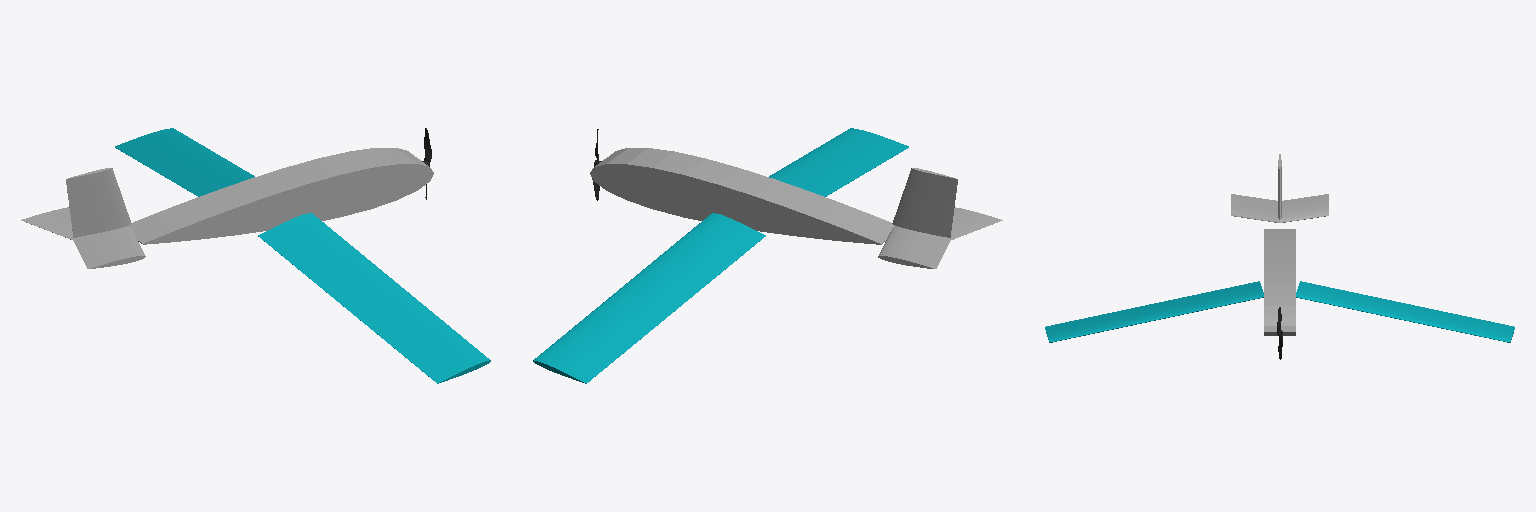
The robot description file, URDF, robot "drone_ea":
<robot name="drone_ea">
 <material name="grey">
  <color rgba="0.7 0.7 0.7 1" />
 </material>
 <material name="red">
  <color rgba="0.08235294117647059 0.7176470588235294 0.7647058823529411 1" />
 </material>
 <material name="black">
  <color rgba="0.2 0.2 0.2 1" />
 </material>
 <link name="root_link">
  <inertial>
   <origin rpy="0 0 0" xyz="0 0 0" />
   <mass value="0" />
   <inertia ixx="0" ixy="0" ixz="0" iyy="0" iyz="0" izz="0" />
  </inertial>
 </link>
 <joint name="fixed_joint_base_fuselage" type="fixed">
  <parent link="root_link" />
  <child link="fuselage" />
  <origin rpy="3.141592653589793 0 0" xyz="0 0 0" />
 </joint>
 <link name="fuselage">
  <inertial>
   <origin rpy="0 0 0" xyz="-0.344 0 0" />
   <mass value="0.55" />
   <inertia ixx="0.00029015955" ixy="0" ixz="0" iyy="0.0074080147" iyz="0" izz="0.0074511885" />
  </inertial>
  <visual>
   <origin rpy="0 0 0" xyz="0 0 0" />
   <geometry>
    <mesh filename="package://ros_muav/meshes/fuselage0014_tail0009.stl" scale="0.001 0.001 0.001" />
   </geometry>
   <material name="grey" />
  </visual>
 </link>
 <joint name="fixed_joint_aero_frame_fuselage" type="fixed">
  <parent link="fuselage" />
  <child link="aero_frame_fuselage" />
  <origin rpy="0 3.141592653589793 0" xyz="-0.344 0 0" />
 </joint>
 <link name="aero_frame_fuselage" />
 <joint name="fixed_joint_right_wing" type="fixed">
  <parent link="fuselage" />
  <child link="fuselage_right_0" />
  <origin rpy="-0.17453292519943295 -0.10471975511965977 3.036872898470133" xyz="-0.35 0.05 0.03" />
 </joint>
 <link name="fuselage_right_0">
  <inertial>
   <mass value="0.018" />
   <origin rpy="0 0 0" xyz="0 0 0" />
   <inertia ixx="2.1333333333333334e-06" ixy="0" ixz="0" iyy="2.1333333333333334e-06" iyz="0" izz="2.1333333333333334e-06" />
  </inertial>
 </link>
 <joint name="joint_0_twist_right_wing" type="revolute">
  <parent link="fuselage_right_0" />
  <child link="fuselage_right_1" />
  <origin rpy="0 0 0" xyz="0 0 0" />
  <axis xyz="0 1 0" />
  <limit effort="0.26" lower="-0.5235987755982988" upper="0.5235987755982988" velocity="5.393067388662478" />
  <dynamics damping="1" friction="0" />
 </joint>
 <link name="fuselage_right_1">
  <inertial>
   <mass value="0.082" />
   <origin rpy="0 0 0" xyz="0 0 0" />
   <inertia ixx="1.8041518518518523e-05" ixy="0" ixz="0" iyy="1.8041518518518523e-05" iyz="0" izz="1.8041518518518523e-05" />
  </inertial>
 </link>
 <joint name="joint_1_dihedral_right_wing" type="revolute">
  <parent link="fuselage_right_1" />
  <child link="fuselage_right_2" />
  <origin rpy="0 0 0" xyz="0 0 0" />
  <axis xyz="1 0 0" />
  <limit effort="1.7" lower="-0.5235987755982988" upper="0.5235987755982988" velocity="1.5707963267948966" />
  <dynamics damping="1" friction="0" />
 </joint>
 <link name="fuselage_right_2">
  <inertial>
   <mass value="0.018" />
   <origin rpy="0 0 0" xyz="0 0 0" />
   <inertia ixx="2.1333333333333334e-06" ixy="0" ixz="0" iyy="2.1333333333333334e-06" iyz="0" izz="2.1333333333333334e-06" />
  </inertial>
 </link>
 <joint name="joint_2_sweep_right_wing" type="revolute">
  <parent link="fuselage_right_2" />
  <child link="right_wing" />
  <origin rpy="0 0 0" xyz="0 0 0" />
  <axis xyz="0 0 1" />
  <limit effort="0.26" lower="-0.5235987755982988" upper="0.5235987755982988" velocity="5.393067388662478" />
  <dynamics damping="1" friction="0" />
 </joint>
 <link name="right_wing">
  <inertial>
   <origin rpy="0 0 0" xyz="0.025827498 -0.33749999999999997 0" />
   <mass value="0.02812456158251265" />
   <inertia ixx="0.0010681446840688066" ixy="0" ixz="0" iyy="3.504021501709715e-05" iyz="0" izz="0.0011026044272724718" />
  </inertial>
  <visual>
   <origin rpy="0 0 0" xyz="0 0 0" />
   <geometry>
    <mesh filename="package://ros_muav/meshes/wing0009.stl" scale="0.15 0.6749999999999999 0.15" />
   </geometry>
   <material name="red" />
  </visual>
 </link>
 <joint name="fixed_joint_aero_frame_right_wing" type="fixed">
  <parent link="right_wing" />
  <child link="aero_frame_right_wing" />
  <origin rpy="3.141592653589793 0 0" xyz="0.025827498 -0.33749999999999997 0" />
 </joint>
 <link name="aero_frame_right_wing" />
 <joint name="fixed_joint_left_wing" type="fixed">
  <parent link="fuselage" />
  <child link="fuselage_left_0" />
  <origin rpy="0.17453292519943295 3.246312408709453 0.10471975511965977" xyz="-0.35 -0.05 0.03" />
 </joint>
 <link name="fuselage_left_0">
  <inertial>
   <mass value="0.018" />
   <origin rpy="0 0 0" xyz="0 0 0" />
   <inertia ixx="2.1333333333333334e-06" ixy="0" ixz="0" iyy="2.1333333333333334e-06" iyz="0" izz="2.1333333333333334e-06" />
  </inertial>
 </link>
 <joint name="joint_0_twist_left_wing" type="revolute">
  <parent link="fuselage_left_0" />
  <child link="fuselage_left_1" />
  <origin rpy="0 0 0" xyz="0 0 0" />
  <axis xyz="0 -1 0" />
  <limit effort="0.26" lower="-0.5235987755982988" upper="0.5235987755982988" velocity="5.393067388662478" />
  <dynamics damping="1" friction="0" />
 </joint>
 <link name="fuselage_left_1">
  <inertial>
   <mass value="0.082" />
   <origin rpy="0 0 0" xyz="0 0 0" />
   <inertia ixx="1.8041518518518523e-05" ixy="0" ixz="0" iyy="1.8041518518518523e-05" iyz="0" izz="1.8041518518518523e-05" />
  </inertial>
 </link>
 <joint name="joint_1_dihedral_left_wing" type="revolute">
  <parent link="fuselage_left_1" />
  <child link="fuselage_left_2" />
  <origin rpy="0 0 0" xyz="0 0 0" />
  <axis xyz="-1 0 0" />
  <limit effort="1.7" lower="-0.5235987755982988" upper="0.5235987755982988" velocity="1.5707963267948966" />
  <dynamics damping="1" friction="0" />
 </joint>
 <link name="fuselage_left_2">
  <inertial>
   <mass value="0.018" />
   <origin rpy="0 0 0" xyz="0 0 0" />
   <inertia ixx="2.1333333333333334e-06" ixy="0" ixz="0" iyy="2.1333333333333334e-06" iyz="0" izz="2.1333333333333334e-06" />
  </inertial>
 </link>
 <joint name="joint_2_sweep_left_wing" type="revolute">
  <parent link="fuselage_left_2" />
  <child link="left_wing" />
  <origin rpy="0 0 0" xyz="0 0 0" />
  <axis xyz="0 0 1" />
  <limit effort="0.26" lower="-0.5235987755982988" upper="0.5235987755982988" velocity="5.393067388662478" />
  <dynamics damping="1" friction="0" />
 </joint>
 <link name="left_wing">
  <inertial>
   <origin rpy="0 0 0" xyz="0.025827498 -0.33749999999999997 0" />
   <mass value="0.02812456158251265" />
   <inertia ixx="0.0010681446840688066" ixy="0" ixz="0" iyy="3.504021501709715e-05" iyz="0" izz="0.0011026044272724718" />
  </inertial>
  <visual>
   <origin rpy="0 0 0" xyz="0 0 0" />
   <geometry>
    <mesh filename="package://ros_muav/meshes/wing0009.stl" scale="0.15 0.6749999999999999 0.15" />
   </geometry>
   <material name="red" />
  </visual>
 </link>
 <joint name="fixed_joint_aero_frame_left_wing" type="fixed">
  <parent link="left_wing" />
  <child link="aero_frame_left_wing" />
  <origin rpy="0 0 0" xyz="0.025827498 -0.33749999999999997 0" />
 </joint>
 <link name="aero_frame_left_wing" />
 <joint name="fixed_joint_collision_0" type="fixed">
  <parent link="fuselage" />
  <child link="collision_frame_0" />
  <origin rpy="0 0 0" xyz="0 0 0" />
 </joint>
 <link name="collision_frame_0" />
 <joint name="fixed_joint_collision_1" type="fixed">
  <parent link="fuselage" />
  <child link="collision_frame_1" />
  <origin rpy="0 0 0" xyz="-0.75 0 0" />
 </joint>
 <link name="collision_frame_1" />
 <joint name="fixed_joint_collision_2" type="fixed">
  <parent link="right_wing" />
  <child link="collision_frame_2" />
  <origin rpy="0 0 0" xyz="0.11249999999999999 -0.6749999999999999 0" />
 </joint>
 <link name="collision_frame_2" />
 <joint name="fixed_joint_collision_3" type="fixed">
  <parent link="right_wing" />
  <child link="collision_frame_3" />
  <origin rpy="0 0 0" xyz="-0.0375 -0.6749999999999999 0" />
 </joint>
 <link name="collision_frame_3" />
 <joint name="fixed_joint_collision_4" type="fixed">
  <parent link="left_wing" />
  <child link="collision_frame_4" />
  <origin rpy="0 0 0" xyz="0.11249999999999999 -0.6749999999999999 0" />
 </joint>
 <link name="collision_frame_4" />
 <joint name="fixed_joint_collision_5" type="fixed">
  <parent link="left_wing" />
  <child link="collision_frame_5" />
  <origin rpy="0 0 0" xyz="-0.0375 -0.6749999999999999 0" />
 </joint>
 <link name="collision_frame_5" />
 <joint name="fixed_joint_prop_frame_fuselage_0" type="fixed">
  <parent link="fuselage" />
  <child link="prop_frame_fuselage_0" />
  <origin rpy="3.141592653589793 -1.5707963267948966 0" xyz="0 0 0" />
 </joint>
 <link name="prop_frame_fuselage_0">
  <inertial>
   <mass value="0.03859" />
   <origin rpy="0 0 0" xyz="0 0 0" />
   <inertia ixx="3.7625e-05" ixy="0" ixz="0" iyy="3.7625e-05" iyz="0" izz="7.5e-05" />
  </inertial>
  <visual>
   <origin rpy="0 0 0" xyz="0 0 0" />
   <geometry>
    <mesh filename="package://ros_muav/meshes/propeller.stl" scale="0.001 0.001 0.001" />
   </geometry>
   <material name="black" />
  </visual>
 </link>
</robot>

--- Render facts (derived) ---
The picture shows the robot from 3 angles, left to right: view 1: azimuth 30°, elevation 25°; view 2: azimuth 150°, elevation 25°; view 3: azimuth 270°, elevation 25°; orthographic projection.
Model drone_ea with 20 links and 19 joints (6 revolute, 13 fixed), rooted at root_link, posed all joints at 0.
Visible links, largest first — view 1: fuselage, right_wing, left_wing; view 2: fuselage, left_wing, right_wing; view 3: fuselage, right_wing, left_wing.
Boxes of the visible links, x1,y1,x2,y2 form: fuselage: (21, 148, 433, 268); right_wing: (258, 213, 490, 383); left_wing: (115, 128, 254, 196); fuselage: (590, 148, 1002, 268); left_wing: (533, 213, 765, 383); right_wing: (769, 128, 908, 196); fuselage: (1231, 154, 1328, 335); right_wing: (1045, 281, 1263, 342); left_wing: (1296, 281, 1514, 342).
Size in the robot's own frame: 0.9695 by 1.44 by 0.3385 metres.
4 mesh visuals loaded from 3 distinct referenced files (3 binary STL).
